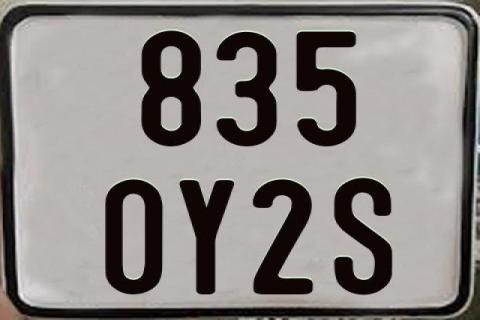0: (140, 28, 206, 148), (294, 30, 359, 146), (213, 30, 274, 148), (103, 177, 165, 293), (251, 178, 311, 294)
S: (332, 176, 392, 298)
Y: (178, 178, 237, 296)
